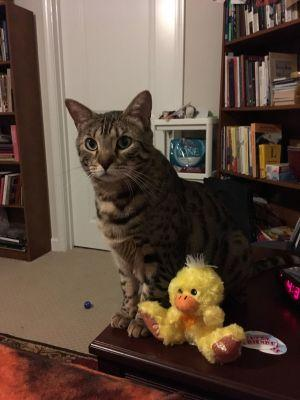bengal: (63, 90, 163, 191)
